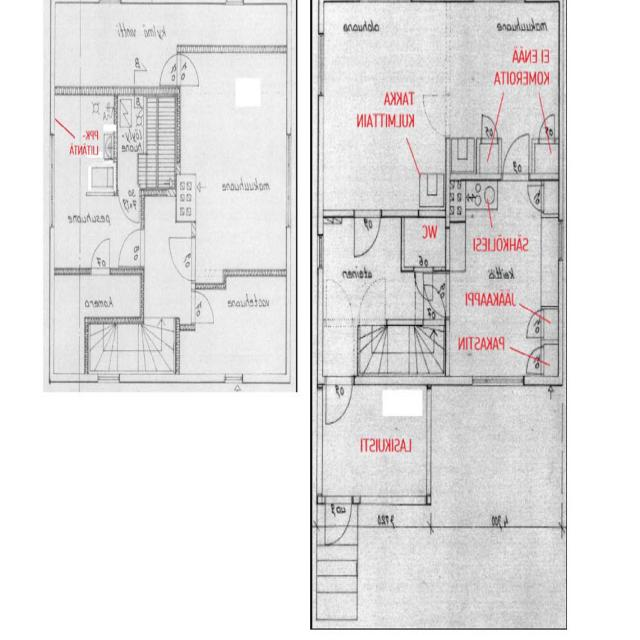door: (326, 376, 354, 431), (354, 210, 381, 263), (326, 495, 352, 550), (420, 273, 450, 316), (504, 129, 529, 180), (167, 238, 195, 280), (120, 230, 144, 266), (424, 284, 445, 325), (119, 189, 139, 231), (90, 236, 110, 274), (158, 54, 180, 85), (176, 54, 198, 85), (415, 266, 433, 303), (192, 292, 213, 322), (526, 184, 544, 211)
